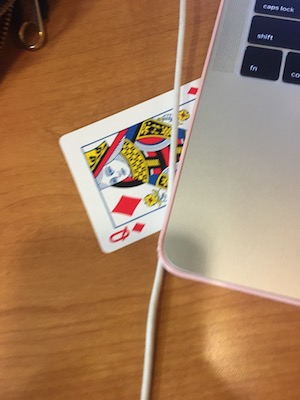QueenOfDiamonds: (47, 79, 217, 256)
